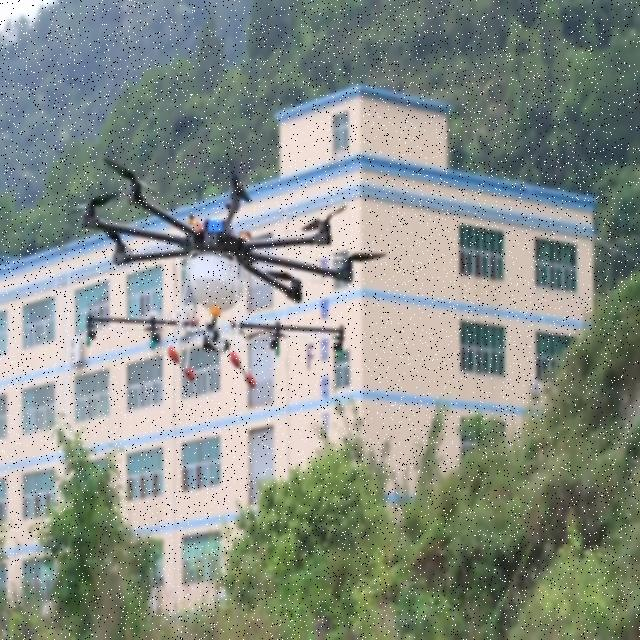UAV: (70, 158, 386, 388)
